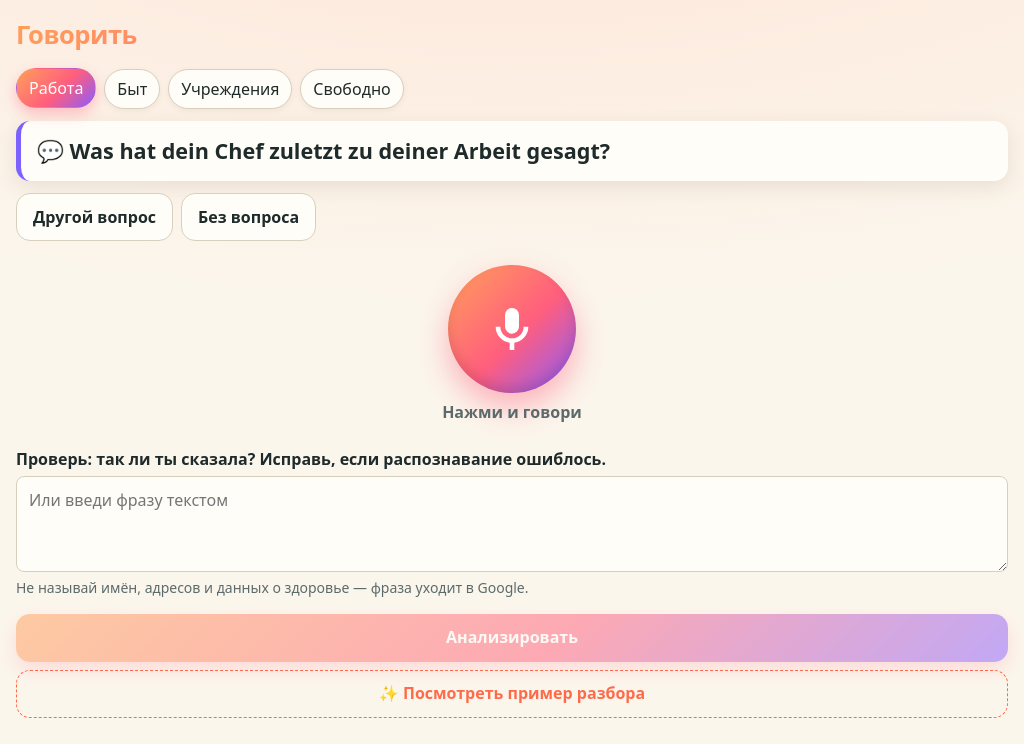
SpeakPage › offers a retry for transient errors and retries with the same text
In the text box: [512, 524] box top-left (16, 476), bottom-right (1008, 572), type "Ich gehe zum Arzt"
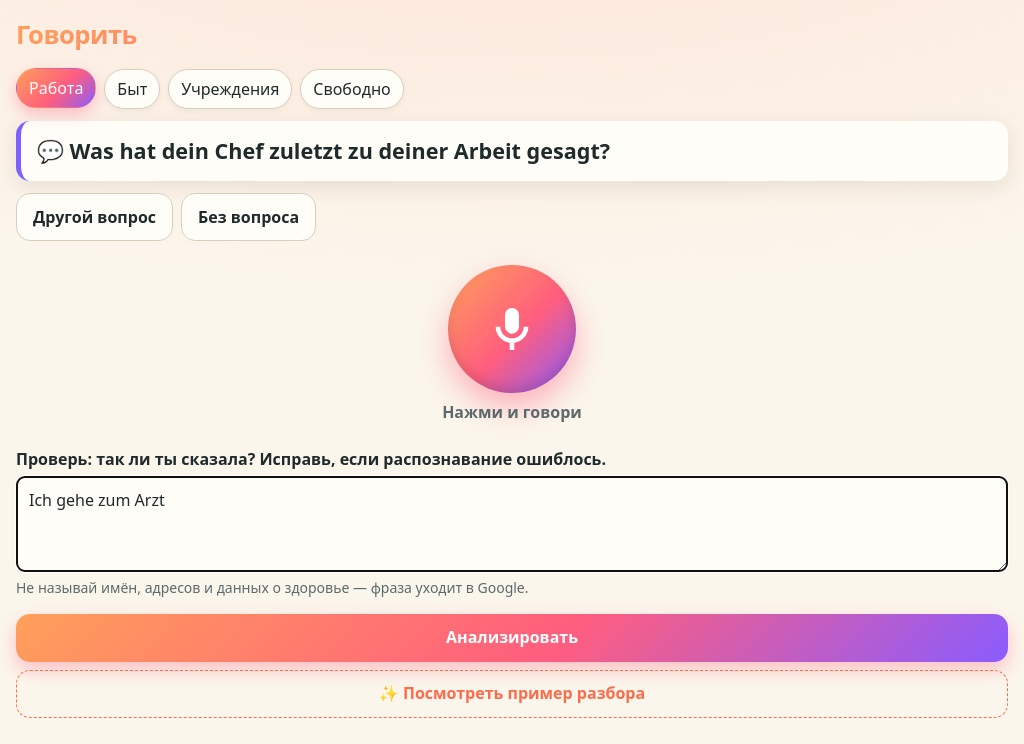
Click the button "Анализировать": [512, 638] box top-left (16, 614), bottom-right (1008, 662)
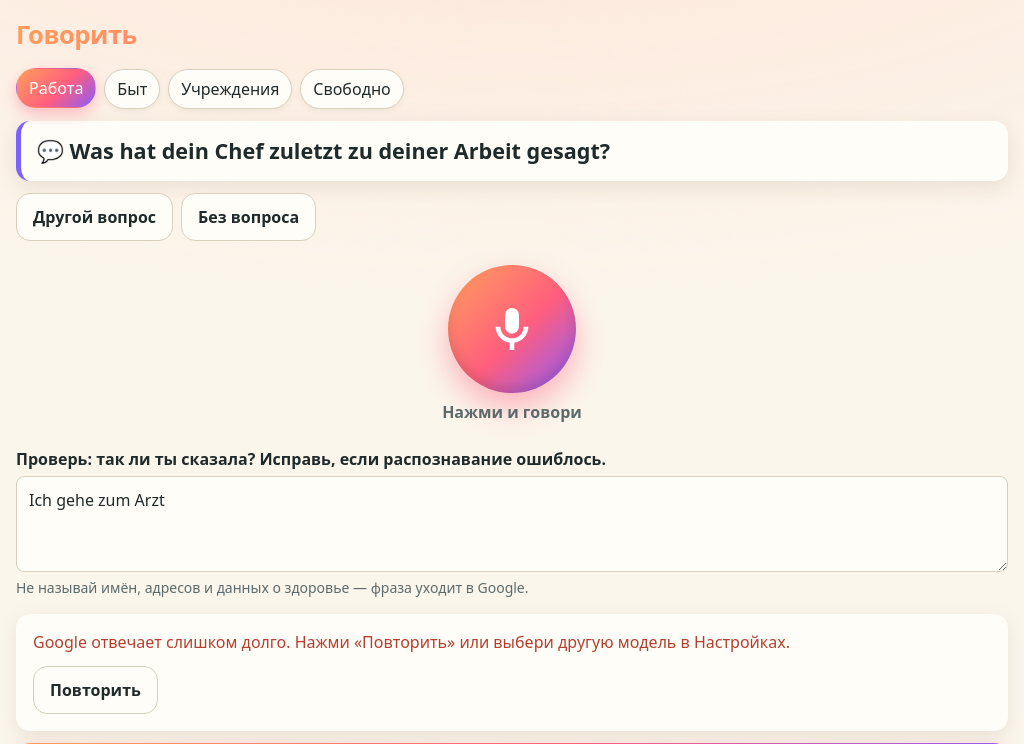
Click the button "Повторить": [95, 690] box top-left (33, 666), bottom-right (158, 714)
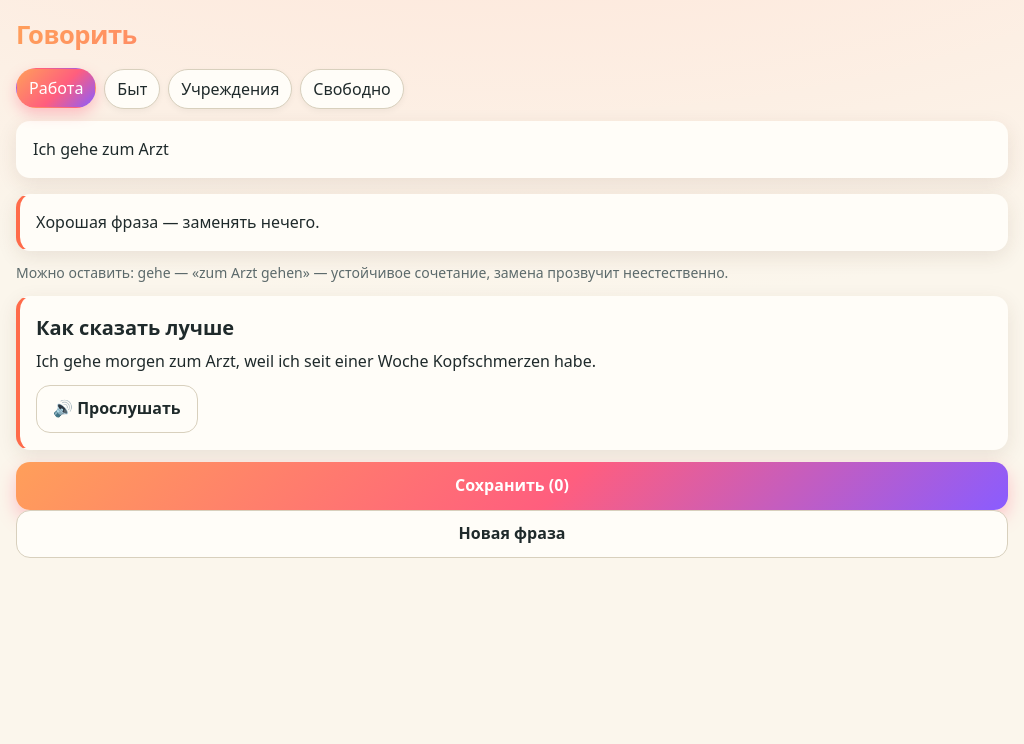
Expected: the text "Хорошая фраза — заменять нечего." is shown, top-left (16, 194), bottom-right (1008, 252)
